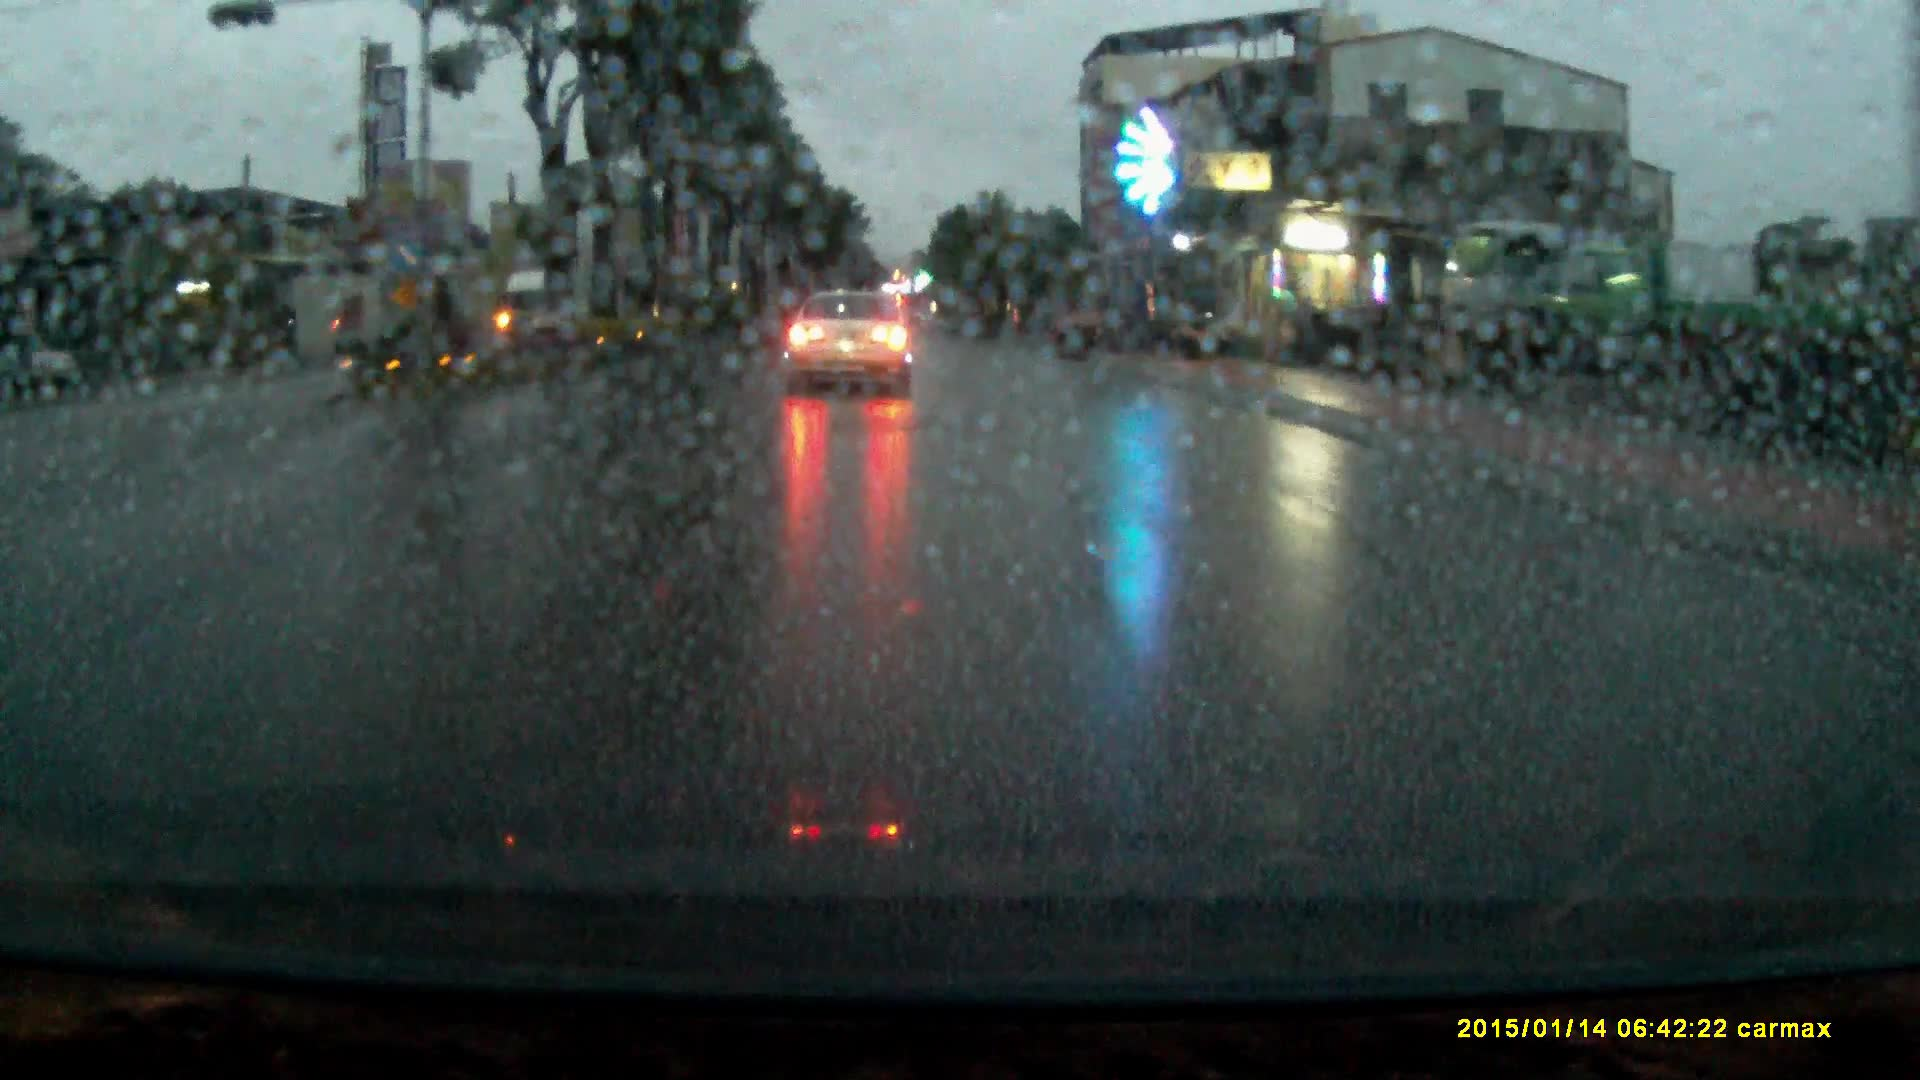vehicle: (1518, 253, 1822, 375), (1440, 228, 1571, 372), (781, 299, 915, 406), (495, 280, 582, 352)
